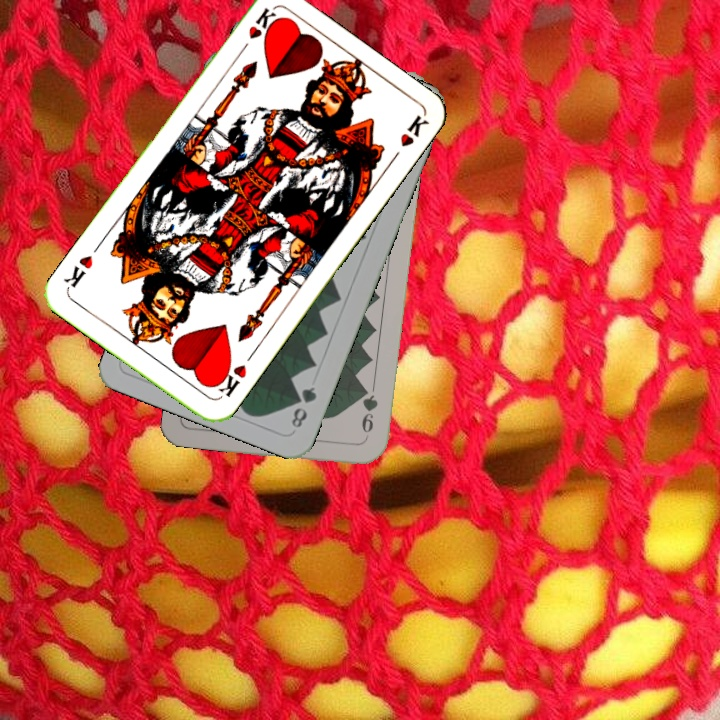G8: (287, 382, 320, 431)
G9: (357, 383, 381, 442)
HK: (235, 3, 280, 57), (210, 359, 250, 401)
